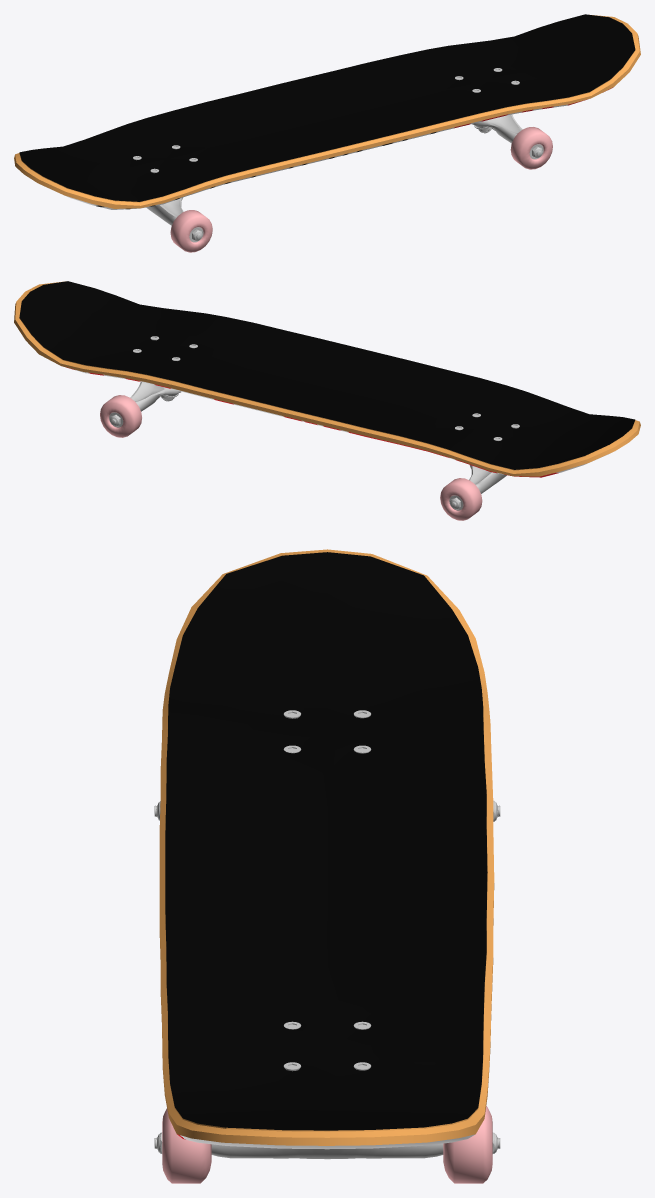
Rendered from Skateboard.fbx.
3 renders of one model, top to bottom at view 1: azimuth 30°, elevation 25°; view 2: azimuth 150°, elevation 25°; view 3: azimuth 270°, elevation 25°, orthographic. The views are drawn at different scales.
Visible parts, largest first — view 1: wheels; view 2: wheels; view 3: wheels.
Boxes of the visible parts, bbox=[...] form: wheels: bbox=[14, 14, 640, 252]; wheels: bbox=[14, 281, 640, 520]; wheels: bbox=[154, 549, 500, 1183].
Size of the model in its own units: 0.7933 by 0.1081 by 0.1963.
